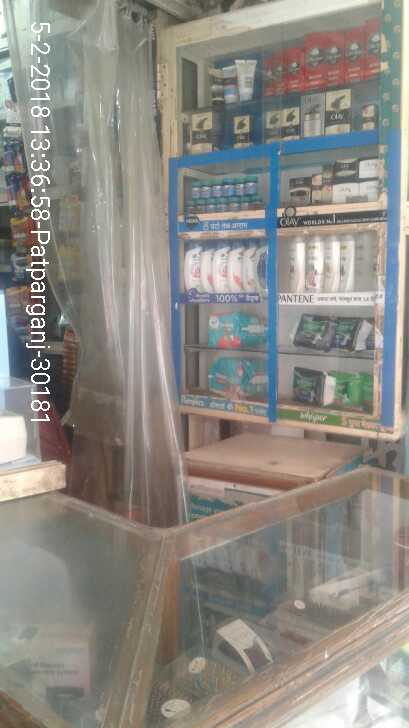pharmacy: (207, 356, 267, 401), (203, 311, 267, 349), (289, 364, 333, 408), (289, 313, 335, 346), (339, 318, 374, 349), (212, 180, 223, 201), (198, 182, 211, 199), (235, 177, 245, 197), (246, 177, 257, 195), (223, 178, 234, 195), (195, 198, 206, 213), (190, 182, 198, 201), (185, 201, 194, 216), (207, 202, 217, 213), (228, 200, 239, 210), (217, 202, 226, 214)
